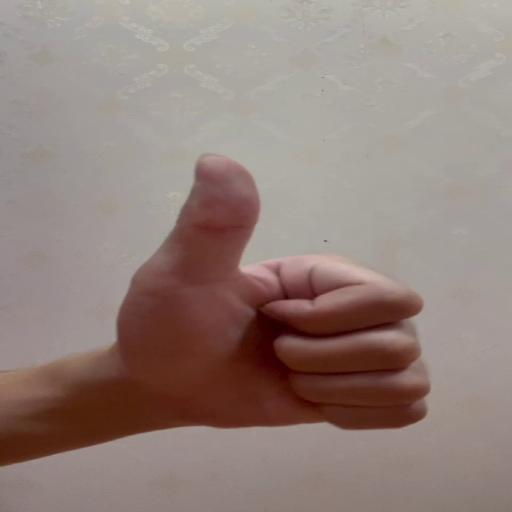thumbs_up: (124, 150, 434, 434)
